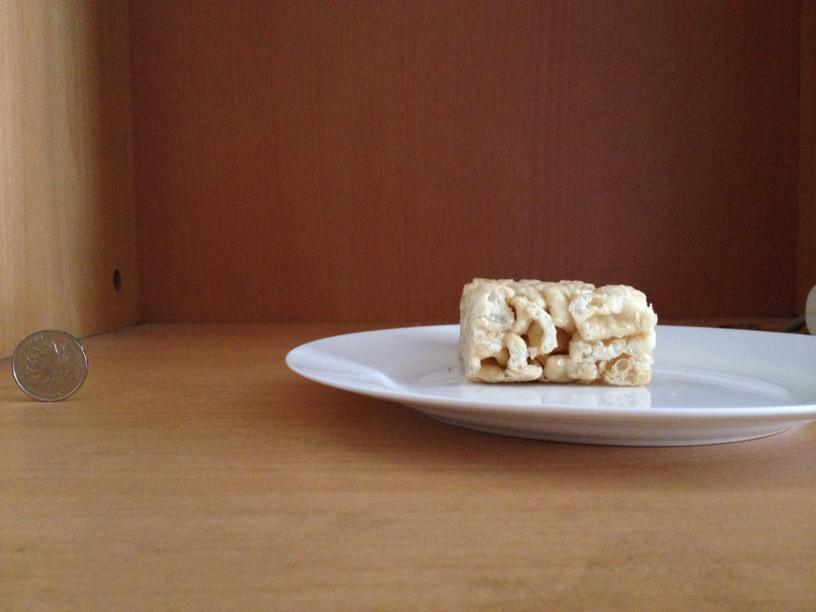coin: (10, 326, 88, 401)
sachima: (456, 273, 654, 387)
